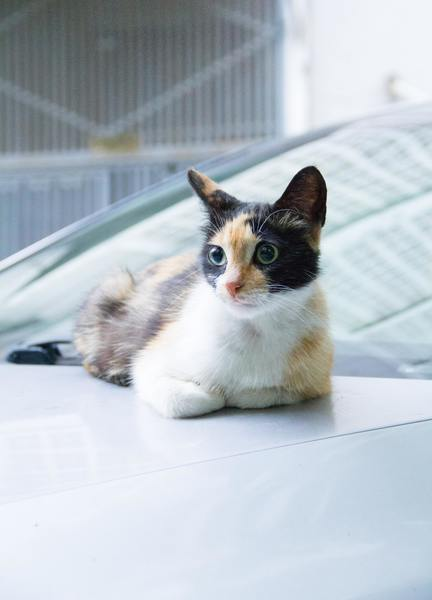cat: (169, 146, 367, 330)
